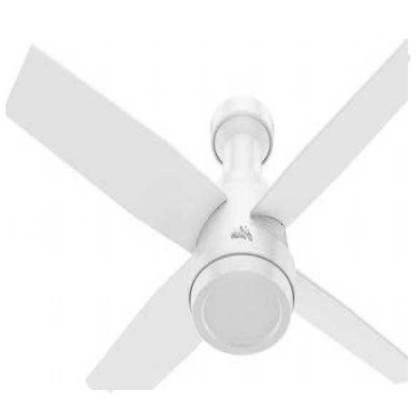ceiling-fan: (6, 38, 408, 391)
